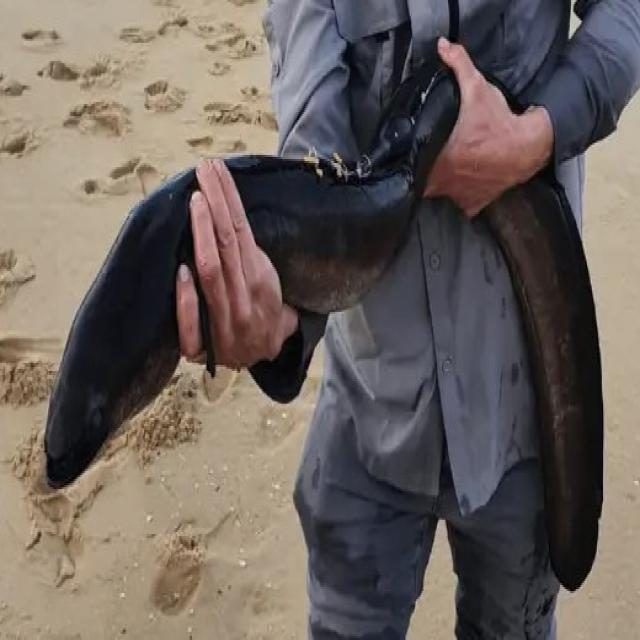Freshwater-Eel: (7, 22, 538, 506)
